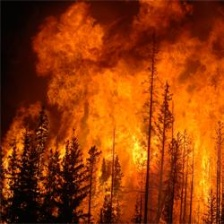fire: (66, 64, 224, 223)
